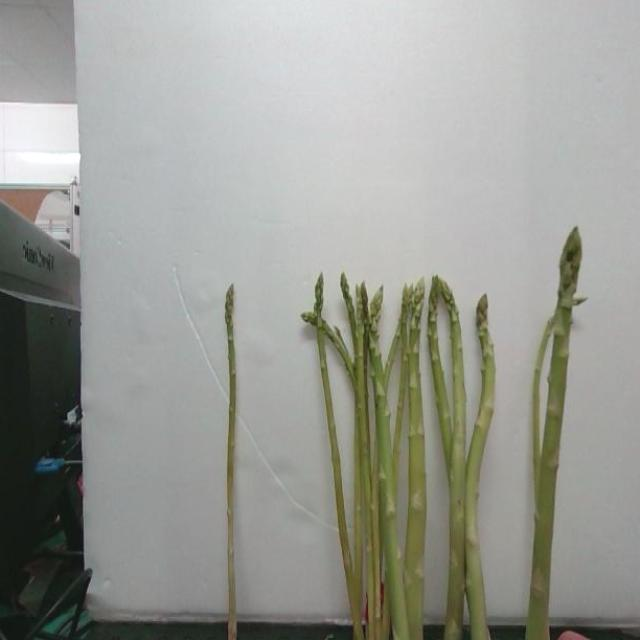aspargus: (528, 229, 582, 640), (224, 289, 239, 640)
